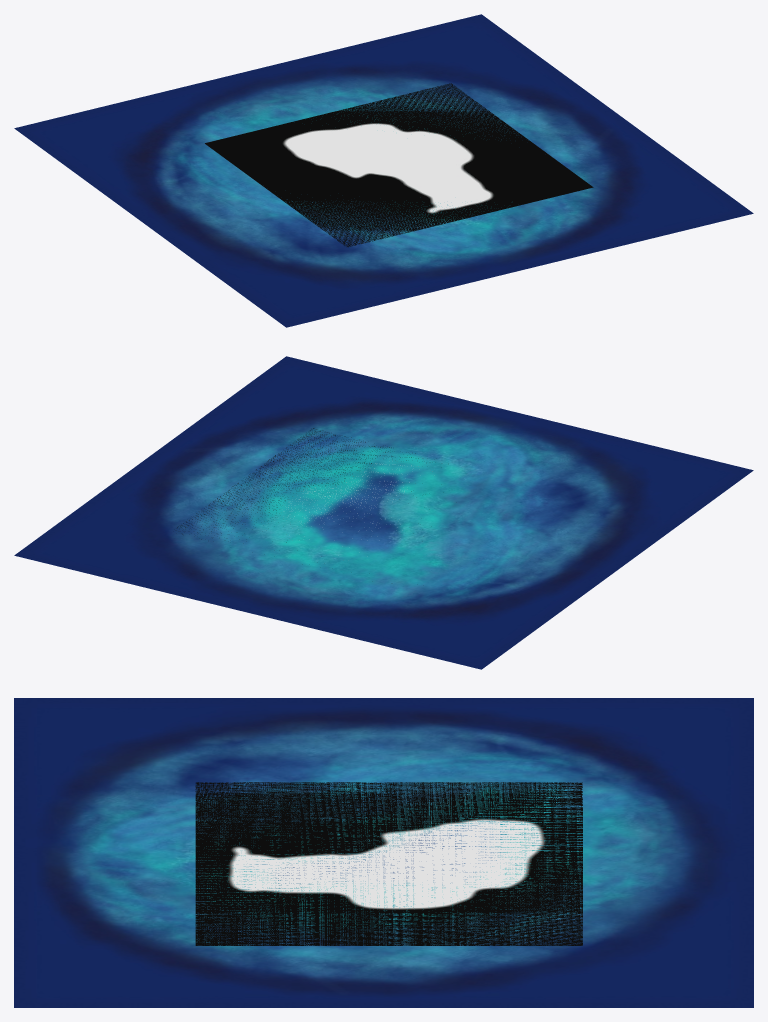
Rendered from pir_m_are_isl_kingshead_ocean.fbx.
3 renders of one model, top to bottom at view 1: azimuth 30°, elevation 25°; view 2: azimuth 150°, elevation 25°; view 3: azimuth 270°, elevation 25°, orthographic. The views are drawn at different scales.
Visible parts, largest first — view 1: water_color, water_alpha; view 2: water_color, water_alpha; view 3: water_color, water_alpha.
Boxes of the visible parts, x1,y1,x2,y2 form: water_color: [14, 14, 753, 327]; water_alpha: [205, 83, 593, 247]; water_color: [14, 356, 753, 669]; water_alpha: [177, 428, 432, 542]; water_color: [14, 698, 753, 1007]; water_alpha: [195, 782, 582, 945].
Size of what is drawn, in the model's own units: 503299 by 0.0827 by 507831.
Materials: 2 (2 with a texture image).
